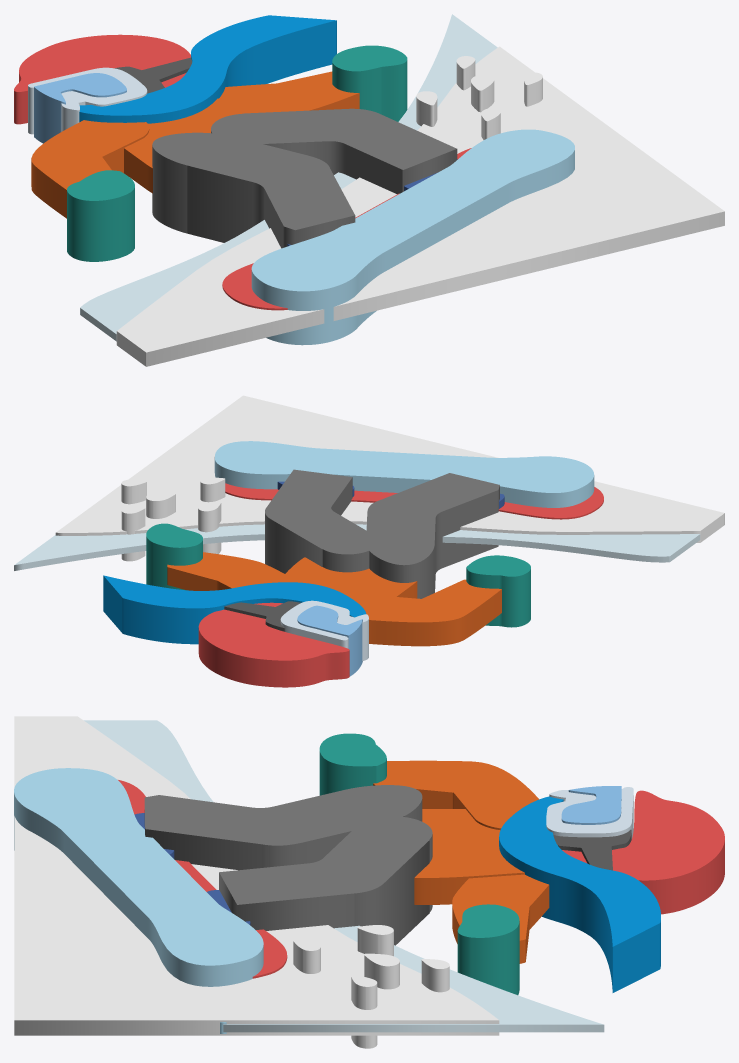
The model's file is emoji_u1f3c2_1f3fb.glb.
3 views of the same model, one above another, from view 1: azimuth 30°, elevation 25°; view 2: azimuth 150°, elevation 25°; view 3: azimuth 270°, elevation 25° (orthographic). The views are drawn at different scales.
Parts seen in each view (by area): view 1: emoji_u1f3c2_1f3fb; view 2: emoji_u1f3c2_1f3fb; view 3: emoji_u1f3c2_1f3fb.
Part boxes in pixels (box(x1,y1,x2,y2)): emoji_u1f3c2_1f3fb: box(14, 14, 724, 366); emoji_u1f3c2_1f3fb: box(14, 395, 724, 687); emoji_u1f3c2_1f3fb: box(14, 716, 724, 1048).
Bounding box in the file's own units: 0.0338 × 0.0038 × 0.0334.
